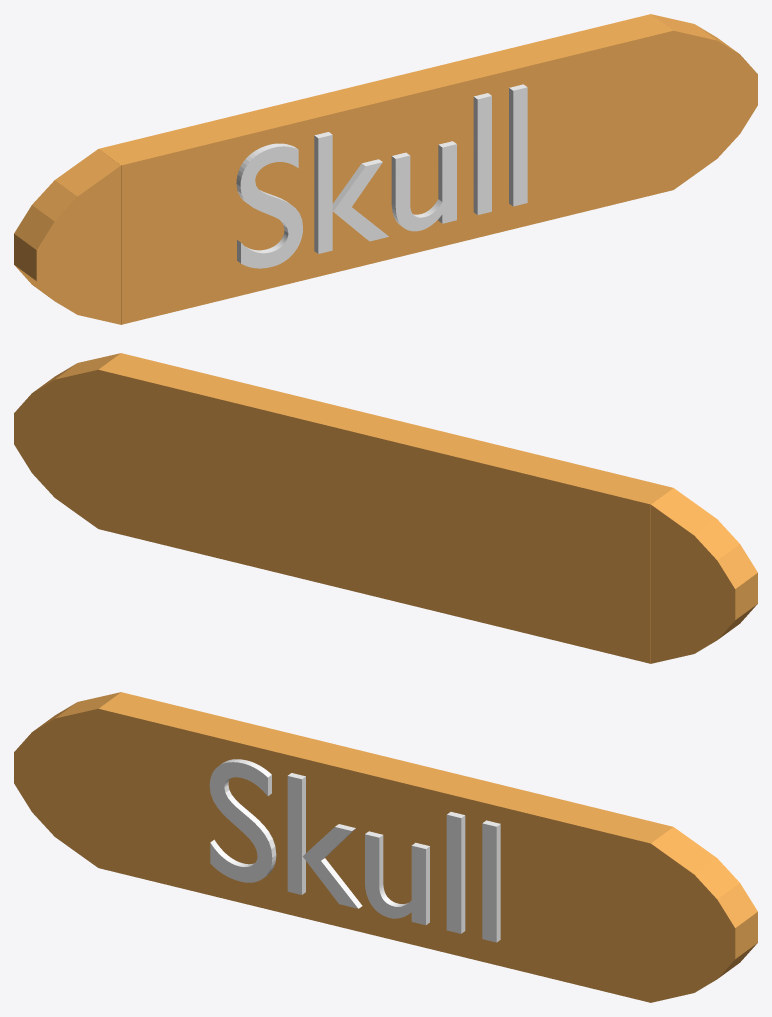
Rendered from txtSkull.fbx.
3 renders of one model, top to bottom at view 1: azimuth 30°, elevation 25°; view 2: azimuth 150°, elevation 25°; view 3: azimuth 330°, elevation 25°, orthographic.
Visible parts, largest first — view 1: TagContainer.003, Text.003; view 2: TagContainer.003; view 3: TagContainer.003, Text.003.
Boxes of the visible parts, <box> form: TagContainer.003: <box>14,14,757,324</box>; Text.003: <box>236,84,527,268</box>; TagContainer.003: <box>14,353,757,663</box>; TagContainer.003: <box>14,692,757,1002</box>; Text.003: <box>209,759,500,942</box>.
Bounding box in the file's own units: 137 × 28.89 × 8.8.
